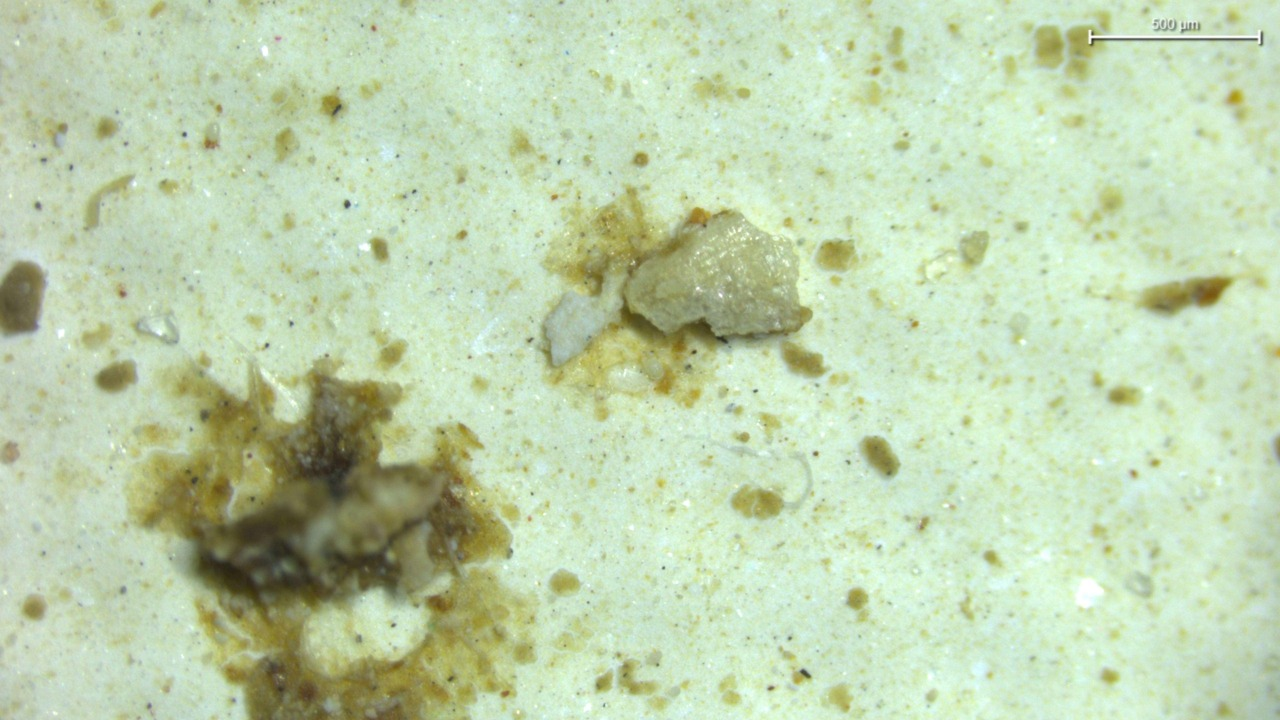microplastic_fragment: (623, 211, 810, 336), (544, 268, 628, 366), (136, 315, 179, 344), (959, 231, 989, 265)
